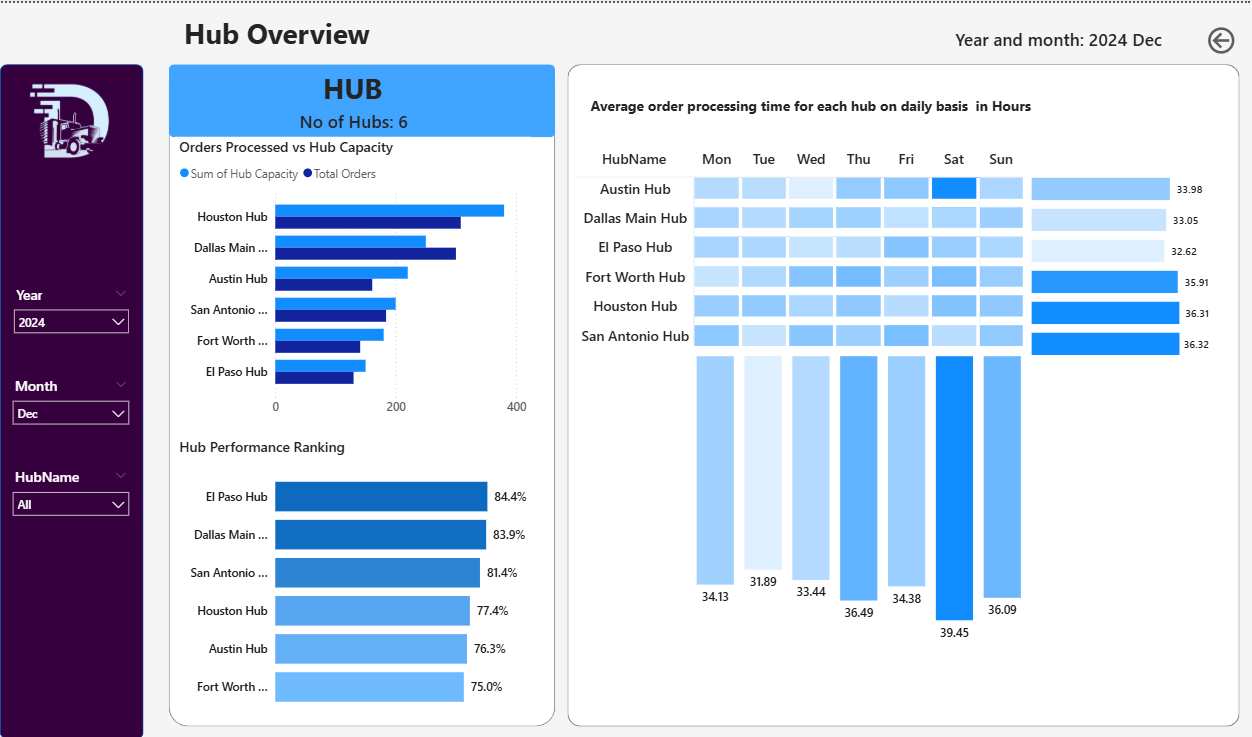

The page's visual inventory and layout, read from the dashboard file:
{"tool":"powerbi","page":{"name":"Hub Overview","canvas":[1450,850],"ordinal":1},"visuals":[{"type":"shape","box":[194.4,71.7,446.3,763.4],"z":0},{"type":"shape","box":[194.4,70.1,446.3,84.5],"z":1000},{"type":"textbox","box":[293.3,71.7,227.9,60.6],"z":2000},{"type":"card","fields":{"Values":["#measures.Total Hubs"]},"box":[299.6,113.2,216.8,52.6],"z":3000},{"type":"clusteredBarChart","title":"Orders Processed vs Hub Capacity","fields":{"Category":["Hubs.HubName"],"Y":["Sum(Hubs.Hub Capacity)","#measures.Total Orders"]},"box":[202.4,154.6,411.2,331.5],"z":4000},{"type":"shape","box":[0,70.1,165.8,780.9],"z":5000},{"type":"slicer","fields":{"Values":["Dim_date.Year"]},"box":[6.4,320.3,153,73.3],"z":6000},{"type":"slicer","fields":{"Values":["Dim_date.Month"]},"box":[4.8,425.5,154.6,74.9],"z":7000},{"type":"barChart","title":"Hub Performance Ranking","fields":{"Category":["Hubs.HubName"],"Y":["#measures.On Time Delivery Rate"]},"box":[202.4,500.4,411.2,329.9],"z":8000},{"type":"shape","box":[655,70.1,776.2,765],"z":9000},{"type":"pivotTable","fields":{"Rows":["Hubs.HubName"],"Values":["#measures.Avg Delivery Time (hrs)"],"Columns":["Dim_date.Day_name"]},"box":[661.4,161,540.3,251.8],"z":10000},{"type":"columnChart","fields":{"Category":["Dim_date.Day_name"],"Y":["#measures.Avg Delivery Time (hrs)"]},"box":[800.1,393.7,385.7,349],"z":11000},{"type":"barChart","fields":{"Category":["Hubs.HubName"],"Y":["#measures.Avg Delivery Time (hrs)"]},"box":[1186.7,189.1,215.1,223.8],"z":12000},{"type":"card","fields":{"Values":["#measures.selected_year_and_month"]},"box":[1043.9,17.5,358.6,52.6],"z":13000},{"type":"textbox","box":[194.9,8.7,249.7,60.6],"z":14000},{"type":"textbox","box":[677.3,102,546.7,60.6],"z":15000},{"type":"image","box":[14.4,79.4,134.3,121.3],"z":16000},{"type":"actionButton","box":[1390.2,23.1,59.2,40.4],"z":17000},{"type":"slicer","fields":{"Values":["Hubs.HubName"]},"box":[4.3,531.3,154.5,75.1],"z":18000}]}

Visuals, with their boxes in screenshot pixels (x1, y1, x2, y2), scaled from the page's 1450x850 canvas onto the 1252x737 screenshot:
shape: l=168, t=62, r=553, b=724
shape: l=168, t=61, r=553, b=134
textbox: l=253, t=62, r=450, b=115
card - #measures.Total Hubs: l=259, t=98, r=446, b=144
"Orders Processed vs Hub Capacity" clusteredBarChart: l=175, t=134, r=530, b=421
shape: l=0, t=61, r=143, b=736
slicer - Dim_date.Year: l=6, t=278, r=138, b=341
slicer - Dim_date.Month: l=4, t=369, r=138, b=434
"Hub Performance Ranking" barChart: l=175, t=434, r=530, b=720
shape: l=566, t=61, r=1236, b=724
pivotTable - Hubs.HubName x #measures.Avg Delivery Time (hrs): l=571, t=140, r=1038, b=358
columnChart - Dim_date.Day_name x #measures.Avg Delivery Time (hrs): l=691, t=341, r=1024, b=644
barChart - Hubs.HubName x #measures.Avg Delivery Time (hrs): l=1025, t=164, r=1210, b=358
card - #measures.selected_year_and_month: l=901, t=15, r=1211, b=61
textbox: l=168, t=8, r=384, b=60
textbox: l=585, t=88, r=1057, b=141
image: l=12, t=69, r=128, b=174
actionButton: l=1200, t=20, r=1251, b=55
slicer - Hubs.HubName: l=4, t=461, r=137, b=526
